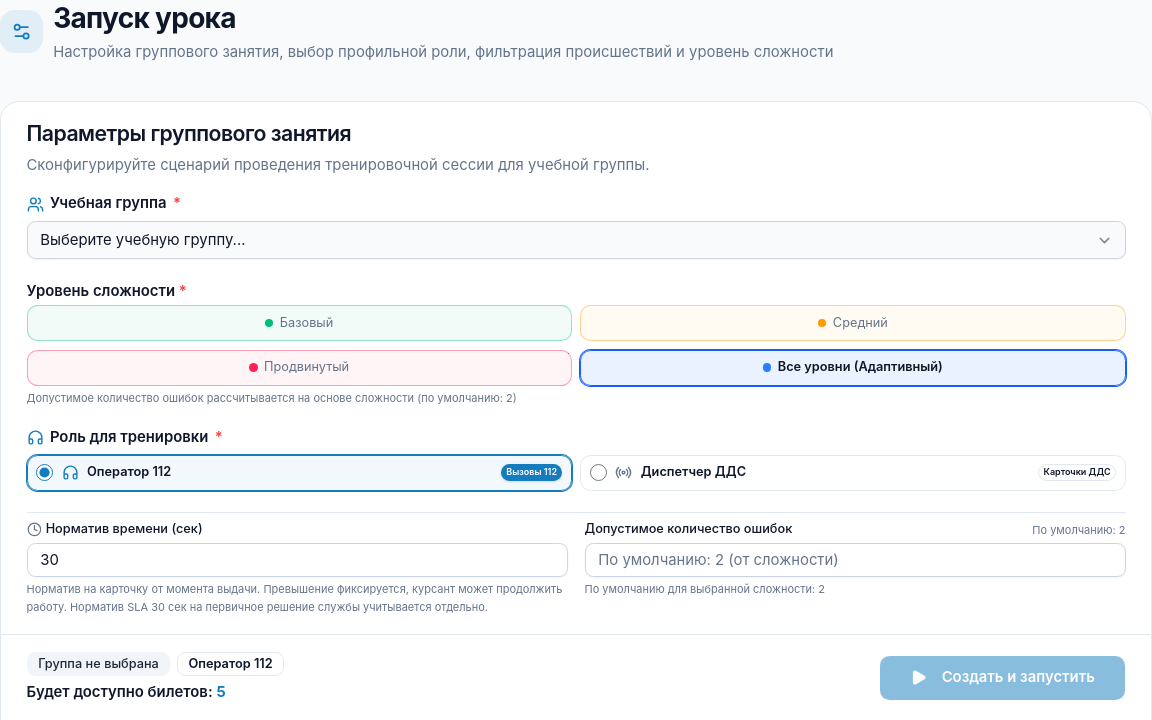
Test: ТЗ 41: Запуск урока (Создание сессии) - Настройка и UI › should disable submit button and show warning when 0 tickets are available, and show divider in Stage 2
The image size is (1152, 720).
Note: Select group 1
Select "Группа 101 (Отделение связи) (2 чел.)" in the dropdown named "Выбор Группы": (576, 240) [26, 221, 1126, 259]
(page scrolled)
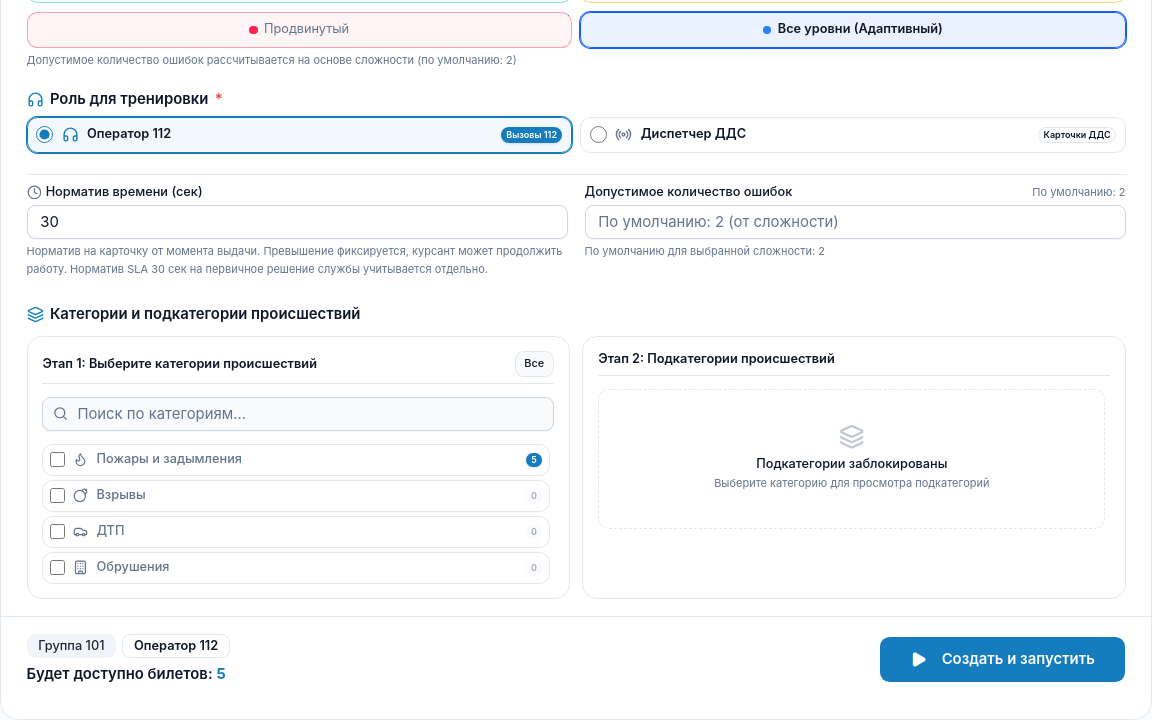
Click the checkbox with id "main-cat-ДТП": (57, 532) [50, 524, 65, 539]
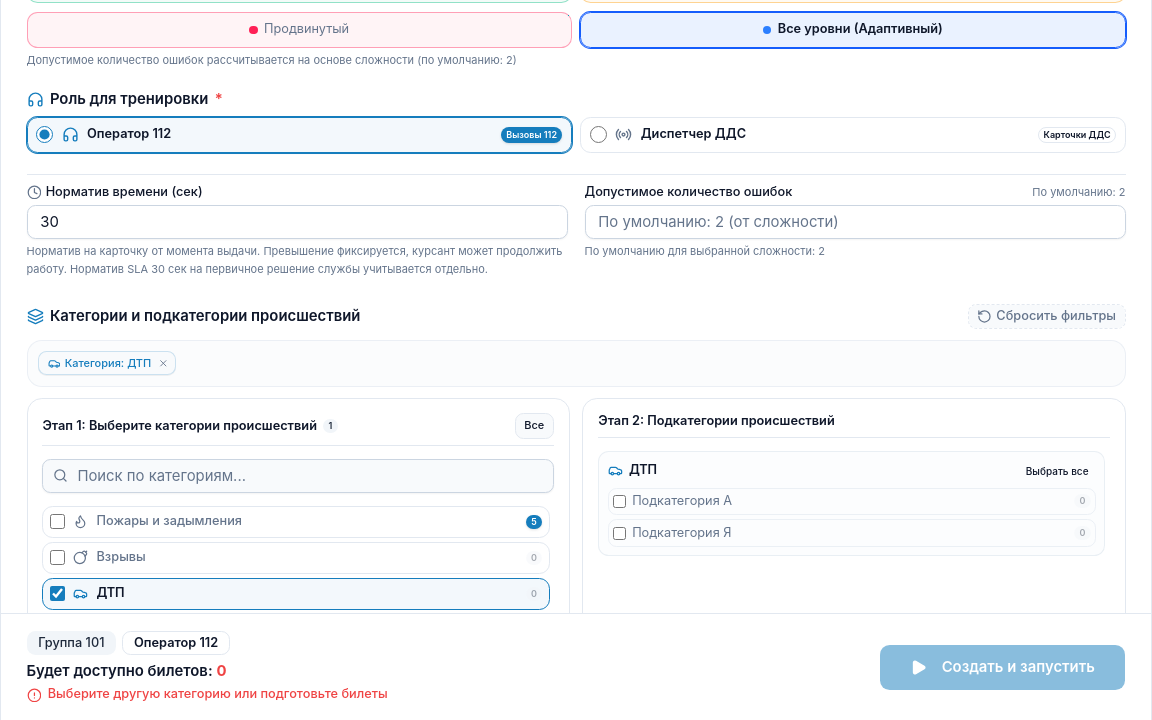
Result: the button "Создать и запустить" is disabled at [879, 644, 1126, 690]
Result: the text "Выберите другую категорию или подготовьте билеты" is shown at [48, 686, 388, 703]
Click the checkbox labelled "Пожары и задымления 5": (57, 522) [50, 514, 65, 529]
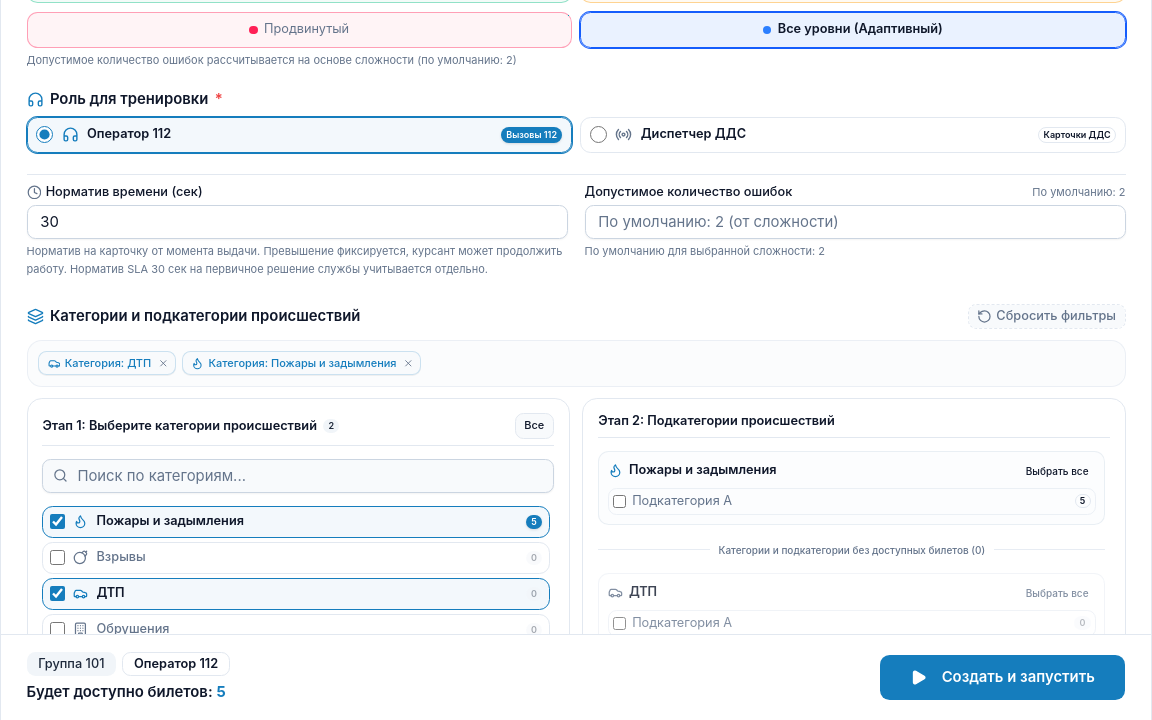
Result: the text "Категории и подкатегории без доступных билетов (0)" is shown at [710, 542, 994, 558]
Result: the button "Создать и запустить" is enabled at [879, 654, 1126, 701]
Result: the text "Выберите другую категорию или подготовьте билеты" is gone
